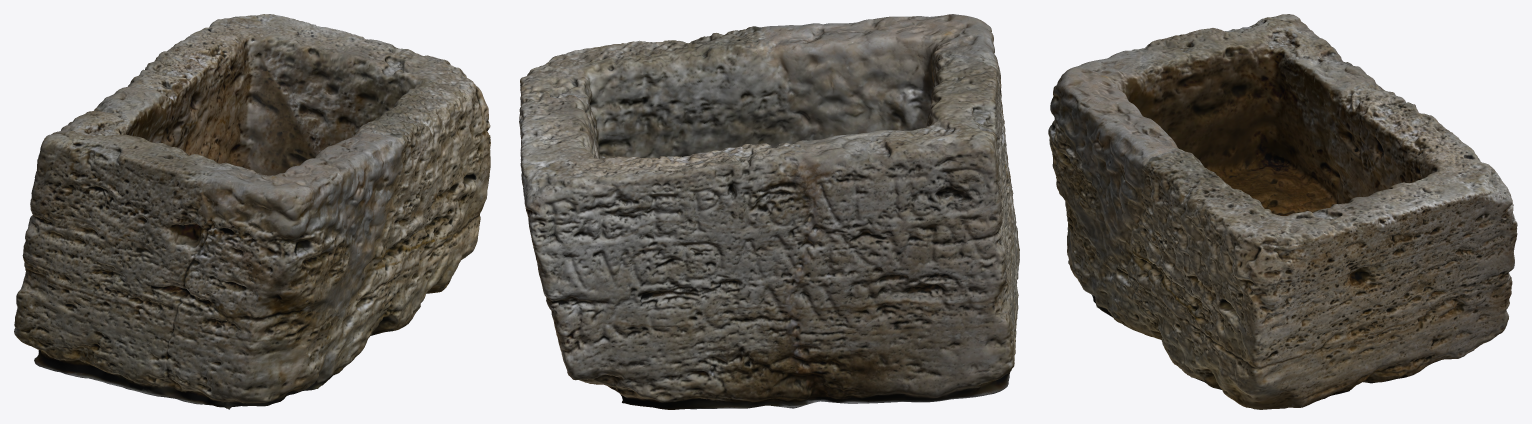
Rendered from Ancient Epigraphic Monument – Urn (Antički epigrafski spomenik – urna) (1).glb.
The picture shows the model from 3 angles, left to right: view 1: azimuth 30°, elevation 25°; view 2: azimuth 150°, elevation 25°; view 3: azimuth 270°, elevation 25°; orthographic projection. The views are drawn at different scales.
Parts seen in each view (by area): view 1: 3DModel; view 2: 3DModel; view 3: 3DModel.
Boxes of the visible parts, box(x1,y1,x2,y2) form: 3DModel: box(14, 14, 490, 409); 3DModel: box(519, 14, 1019, 409); 3DModel: box(1048, 14, 1517, 409).
Size of the model in its own units: 0.6641 by 0.3329 by 0.613.
Materials: 1 (1 with a texture image).
